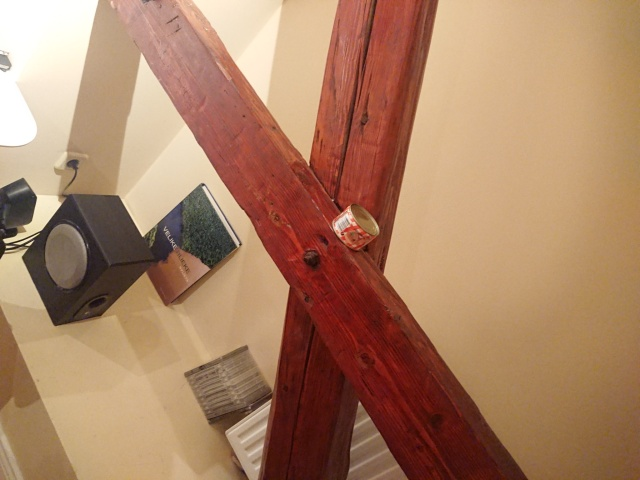Podravka Luncheon Meat 150g: (330, 202, 382, 254)
